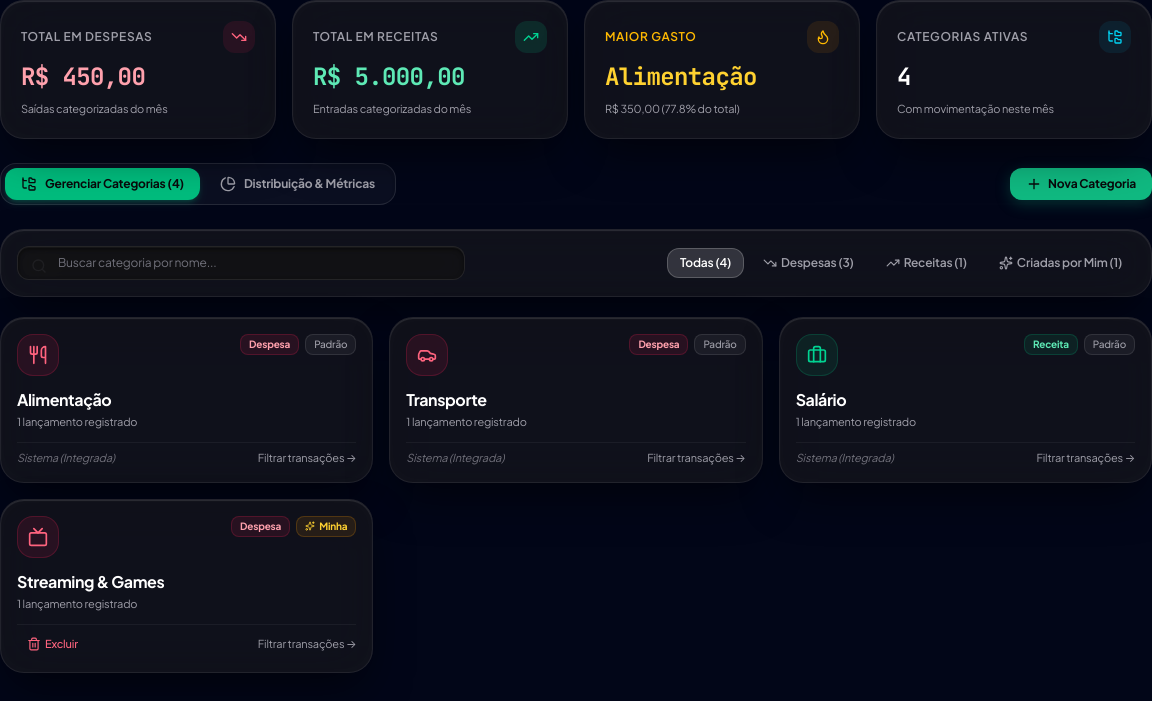
Test: <CategoriesView /> (Gerenciador e Análise de Categorias) › deve alternar para a aba de Distribuição & Métricas
The image size is (1152, 701).
Click the button with test id "tab-analysis-categories".
click(297, 184)  # box left=204, top=168, right=391, bottom=200
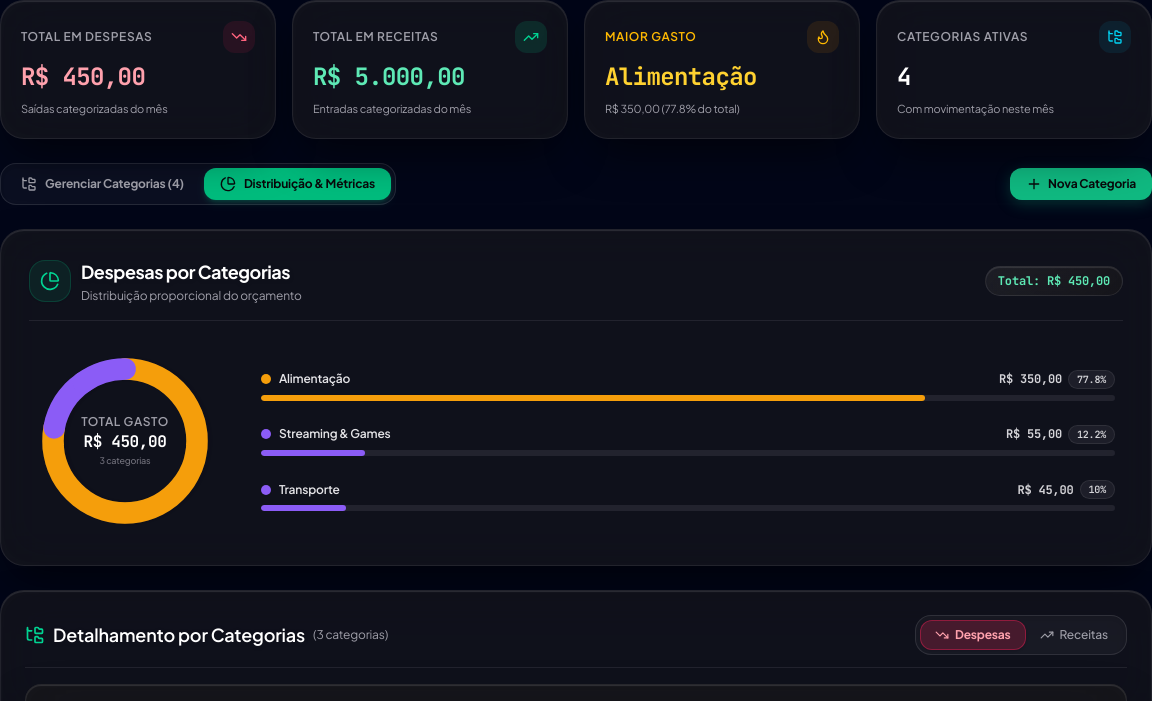
Expected: the heading "Detalhamento por Categorias" is shown, left=53, top=620, right=305, bottom=648
